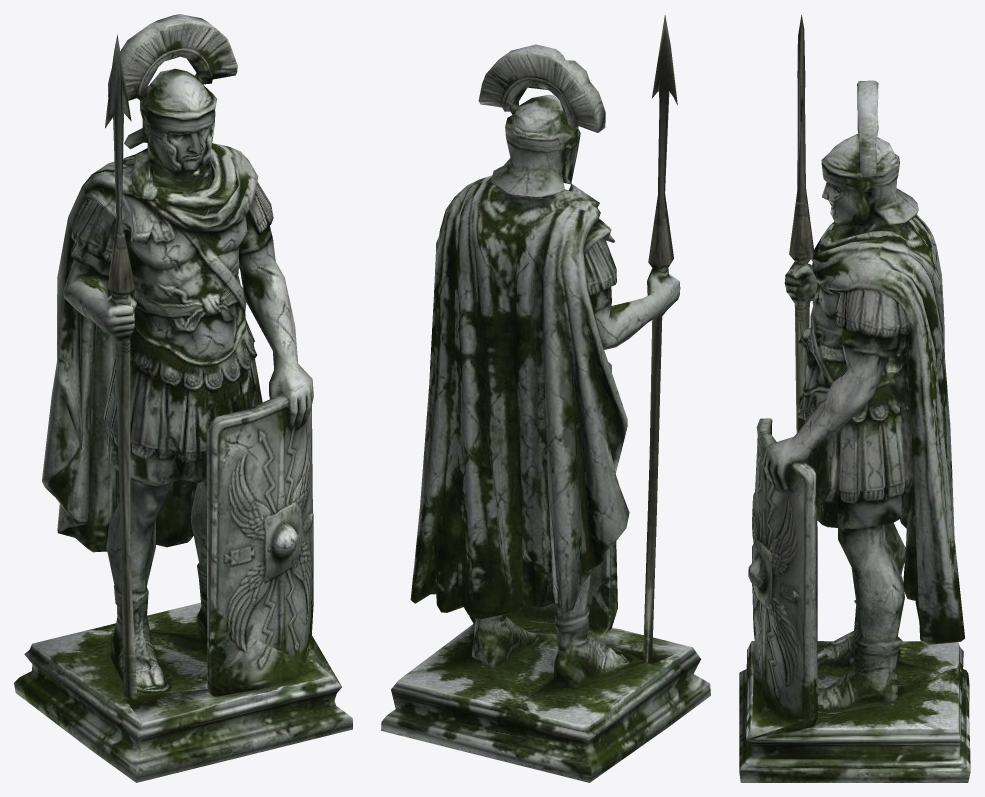
Rendered from statue.glb.
3 views of the same model, side by side, from view 1: azimuth 30°, elevation 25°; view 2: azimuth 150°, elevation 25°; view 3: azimuth 270°, elevation 25° (orthographic). The views are drawn at different scales.
Parts seen in each view (by area): view 1: Mesh_0; view 2: Mesh_0; view 3: Mesh_0.
Boxes of the visible parts, box(x1,y1,x2,y2) form: Mesh_0: box(14, 14, 352, 782); Mesh_0: box(381, 15, 710, 782); Mesh_0: box(739, 15, 970, 782).
Bounding box in the file's own units: 0.6051 × 1.9 × 0.5878.
1 material, 1 textured.
